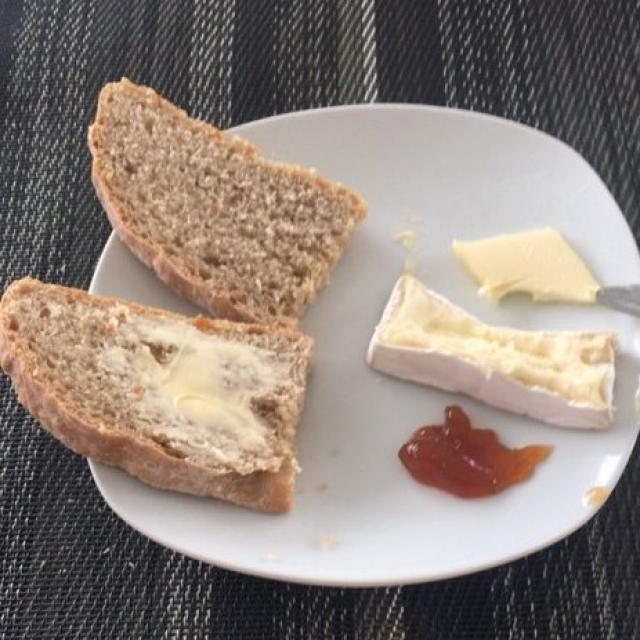bread: (7, 86, 361, 520)
butter: (454, 229, 595, 307)
jam: (393, 408, 542, 509)
